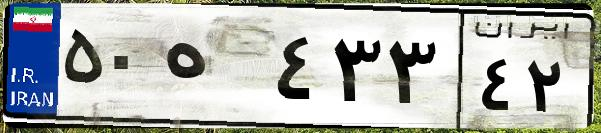0: (110, 28, 158, 98)
2: (525, 38, 570, 115)
3: (385, 28, 445, 110), (330, 28, 385, 110)
4: (270, 28, 330, 110), (475, 38, 525, 113)
5: (57, 26, 110, 100)
ه: (158, 20, 270, 120)
